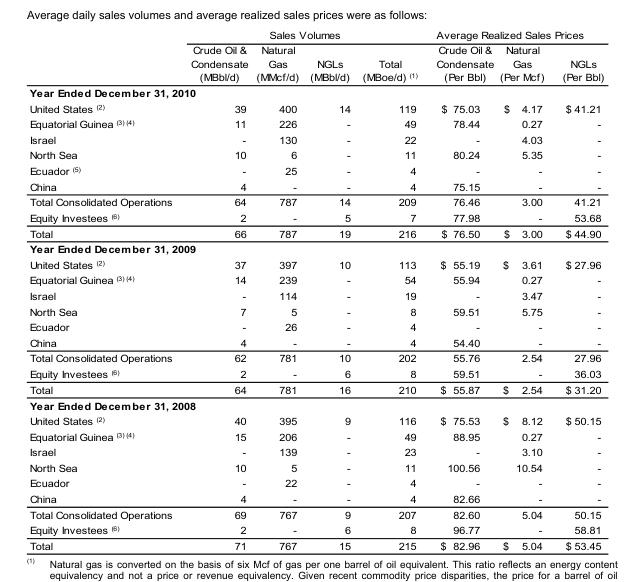table: (28, 28, 603, 551)
table column: (28, 28, 180, 551), (180, 28, 251, 551), (355, 28, 426, 551), (426, 28, 496, 551), (496, 28, 552, 551), (251, 28, 303, 551), (303, 28, 355, 551), (552, 28, 603, 551)
table column header: (28, 28, 603, 84)
table projected row header: (28, 84, 603, 100), (28, 241, 603, 256), (28, 397, 603, 412)
table row: (28, 41, 603, 84), (28, 84, 603, 100), (28, 115, 603, 131), (28, 131, 603, 147), (28, 162, 603, 178), (28, 193, 603, 209), (28, 209, 603, 225), (28, 225, 603, 241), (28, 256, 603, 272), (28, 287, 603, 303), (28, 318, 603, 334), (28, 334, 603, 350), (28, 365, 603, 381), (28, 381, 603, 397), (28, 412, 603, 428), (28, 443, 603, 459), (28, 459, 603, 475), (28, 490, 603, 506), (28, 506, 603, 522), (28, 100, 603, 115), (28, 147, 603, 162), (28, 178, 603, 193), (28, 241, 603, 256), (28, 272, 603, 287), (28, 303, 603, 318), (28, 350, 603, 365), (28, 397, 603, 412), (28, 428, 603, 443), (28, 475, 603, 490), (28, 522, 603, 537), (28, 537, 603, 551), (28, 28, 603, 41)
table spanning cell: (180, 28, 426, 41), (426, 28, 603, 41)
